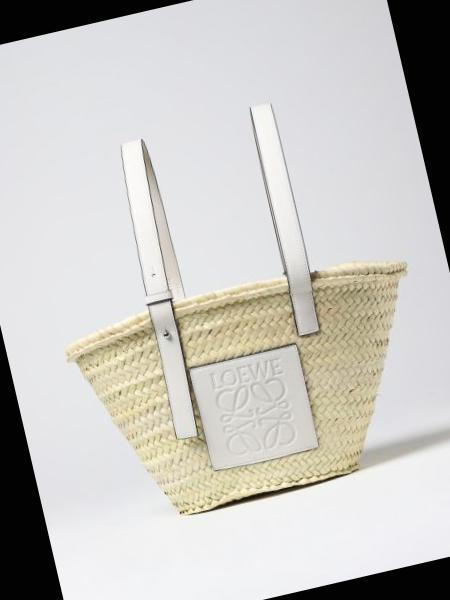LOEWE: (205, 366, 306, 470)
